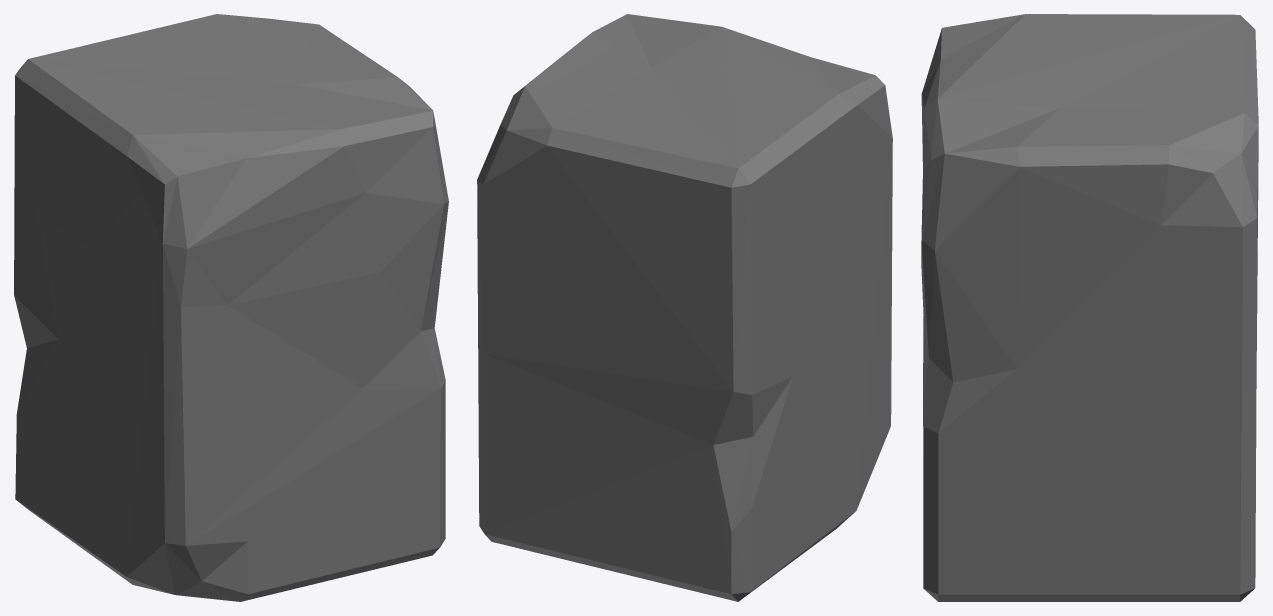
File: Ruins_03.fbx
The picture shows the model from 3 angles, left to right: view 1: azimuth 30°, elevation 25°; view 2: azimuth 150°, elevation 25°; view 3: azimuth 270°, elevation 25°; orthographic projection. The views are drawn at different scales.
Parts seen in each view (by area): view 1: Ruins_03; view 2: Ruins_03; view 3: Ruins_03.
Boxes of the visible parts, left/top/right/bottom form: Ruins_03: left=14, top=14, right=448, bottom=601; Ruins_03: left=477, top=14, right=892, bottom=601; Ruins_03: left=921, top=14, right=1258, bottom=601.
Bounding box in the file's own units: 0.689 × 1.03 × 0.686.
